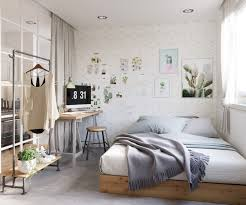Bed: (101, 110, 246, 204)
Chair: (83, 124, 113, 161)
Table: (47, 107, 102, 164)
